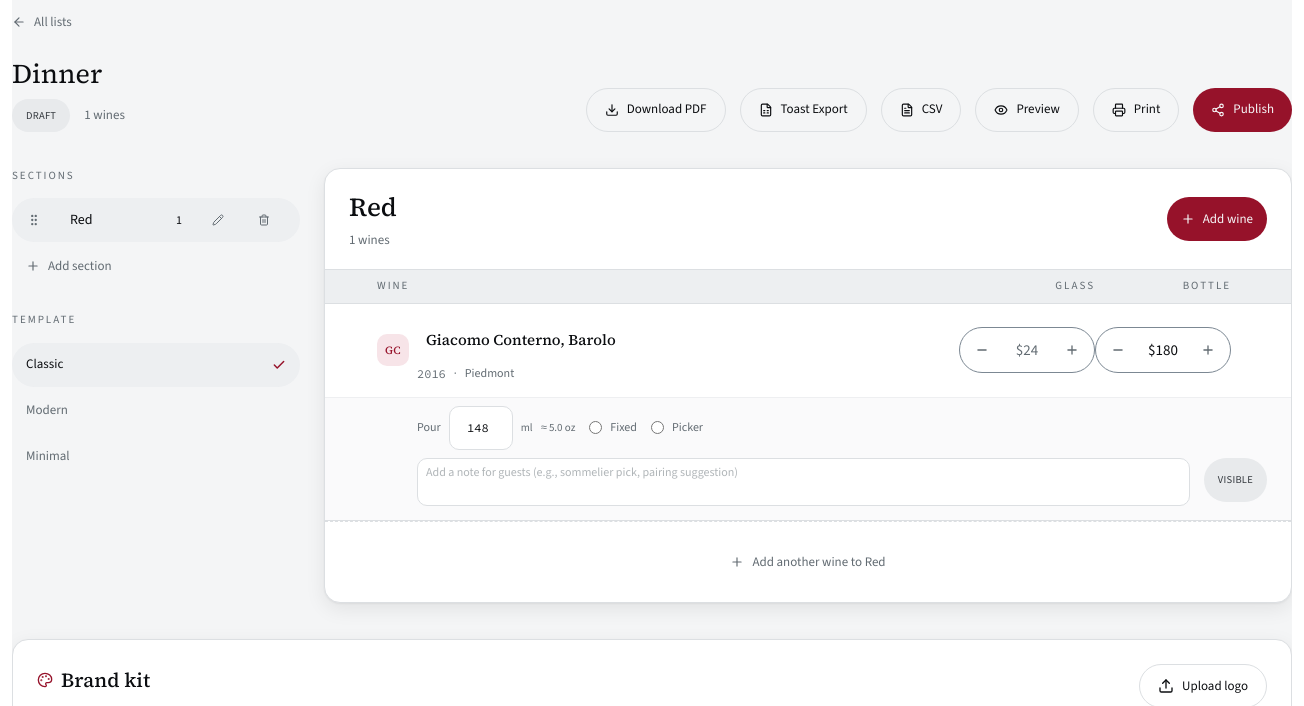
Test: wine-list item write failures › reports a refused price change instead of silently reverting
Click the button named "Increase glass price for Barolo".
click(1072, 350)  # box [1050,328,1094,372]
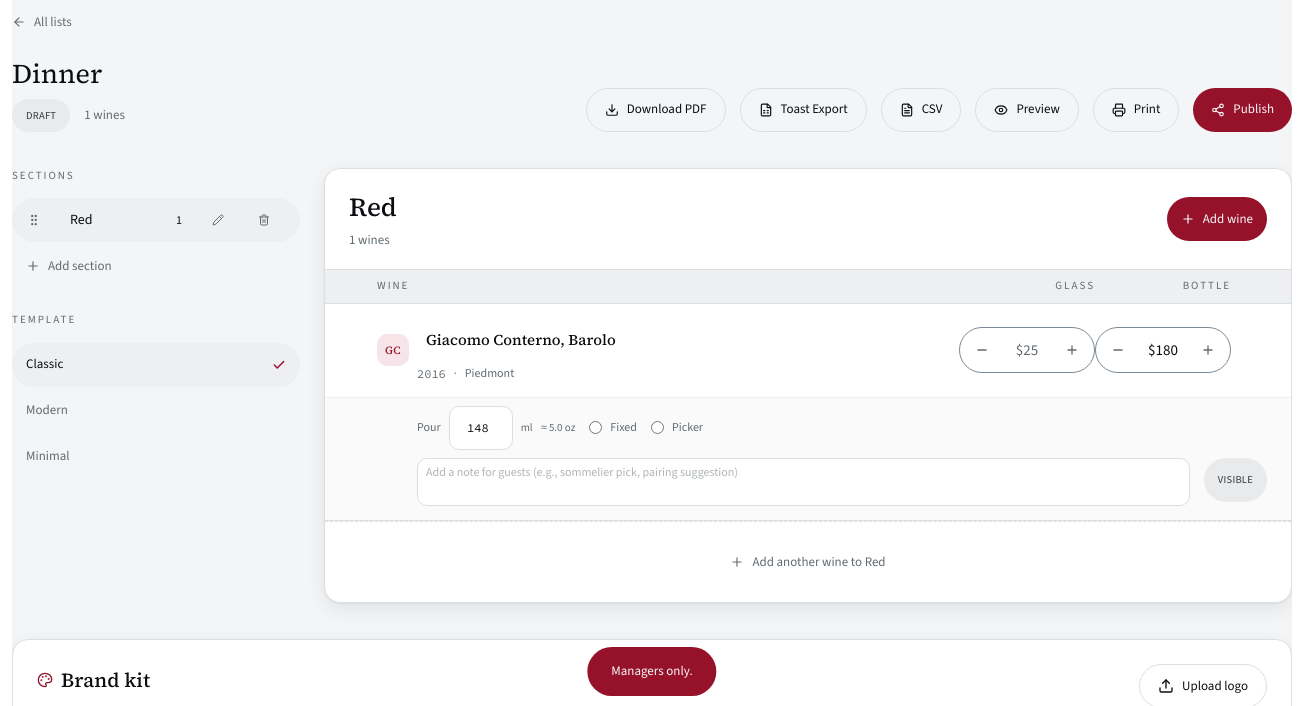
Expected: the text "Managers only." is shown, [587,647,717,696]
